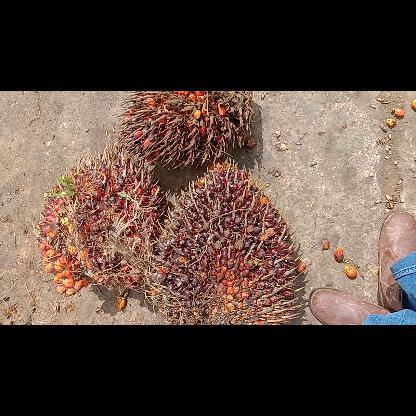Kurang masak: (148, 158, 304, 324)
TBS masak: (35, 152, 157, 296)
Terlalu masak: (114, 90, 254, 168)
